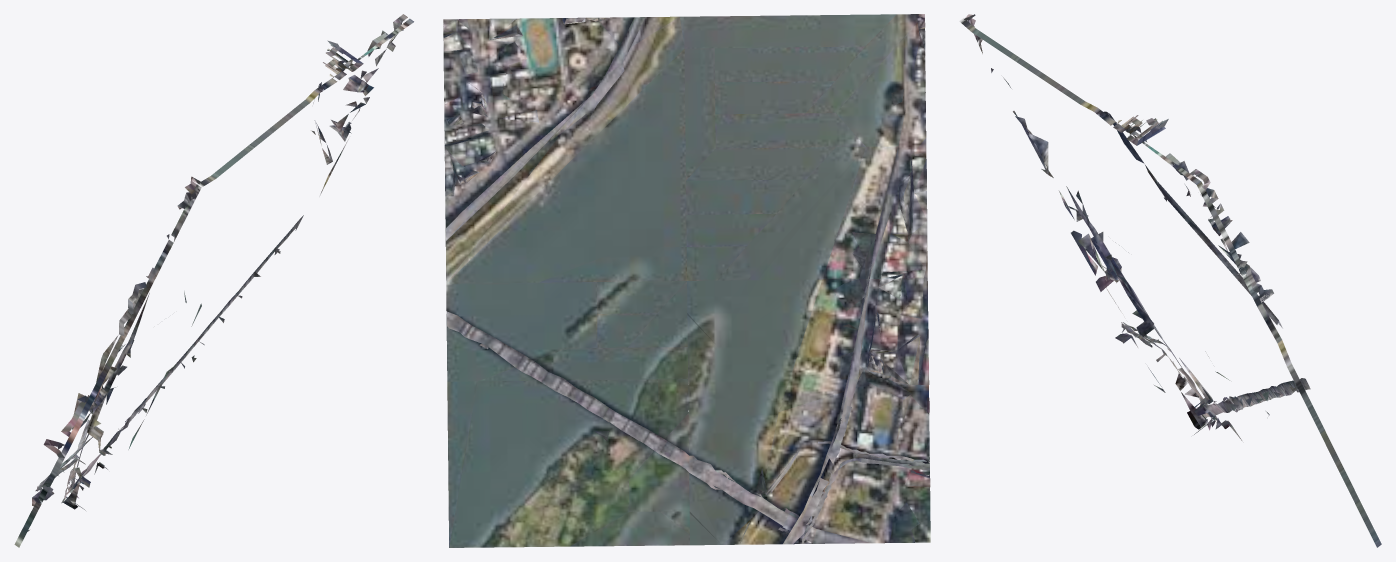
3 views of the same model, side by side, from view 1: azimuth 30°, elevation 25°; view 2: azimuth 150°, elevation 25°; view 3: azimuth 270°, elevation 25° (orthographic). The views are drawn at different scales.
Bounding box in the file's own units: 1222 × 1164 × 1031.
Materials: 1 (1 with a texture image).
